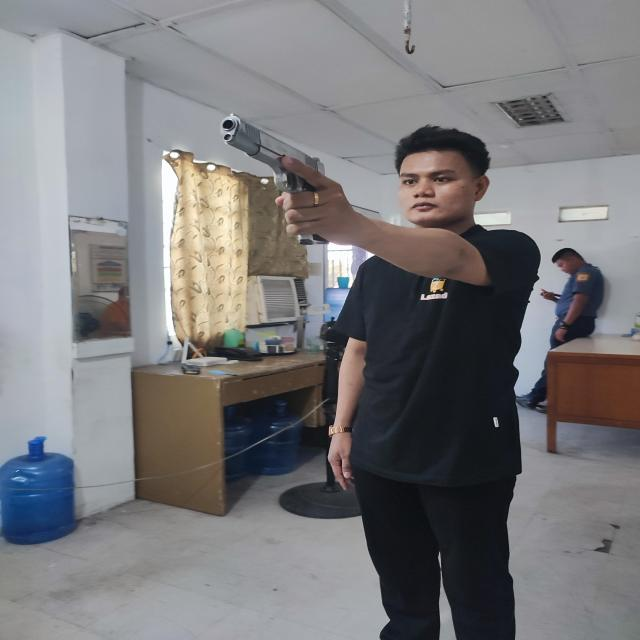pistol: (220, 114, 325, 194)
